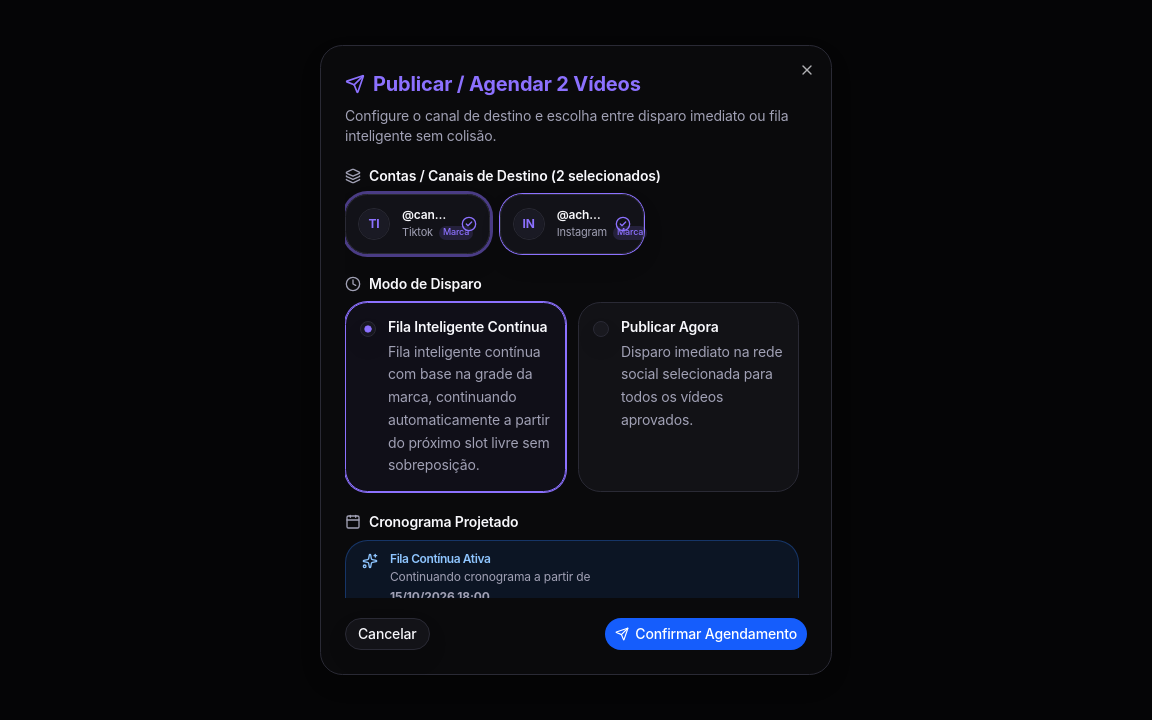
Test: ViralPublishDialog › displays error message if publish mutation rejects
Click the button "Confirmar Agendamento" at (706, 634), box [605,618,807,650]
(page scrolled)
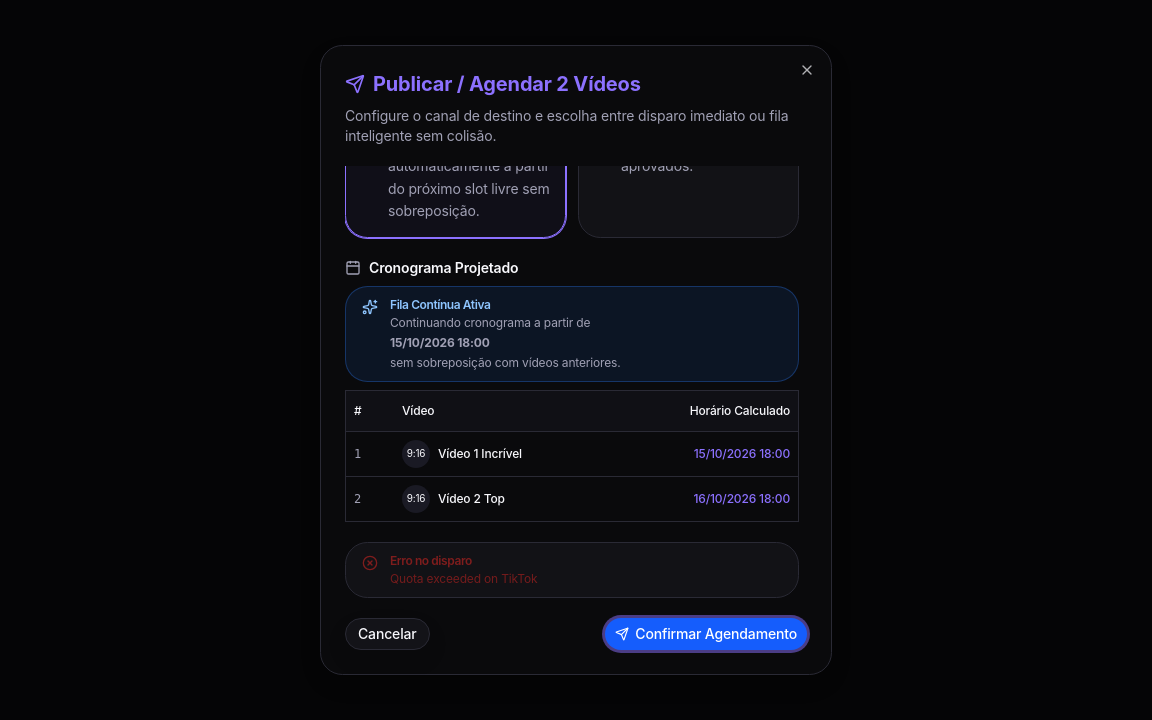
Expected: the text "Quota exceeded on TikTok" is shown, [390,571,538,586]
